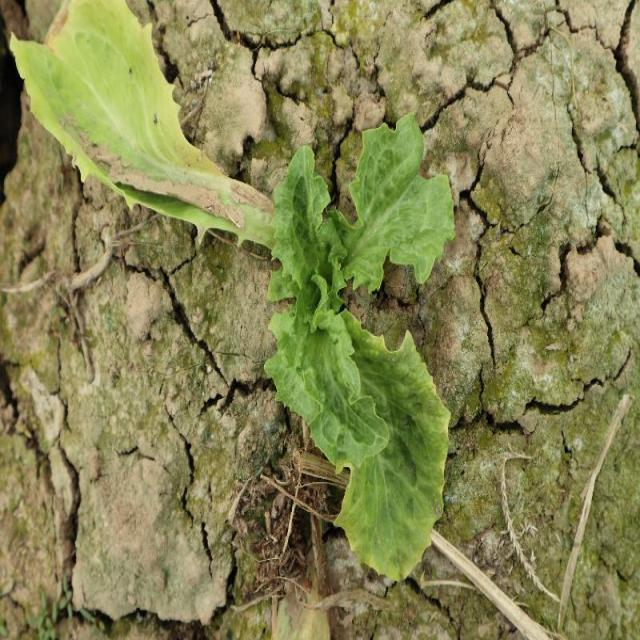crop: (259, 113, 453, 580)
